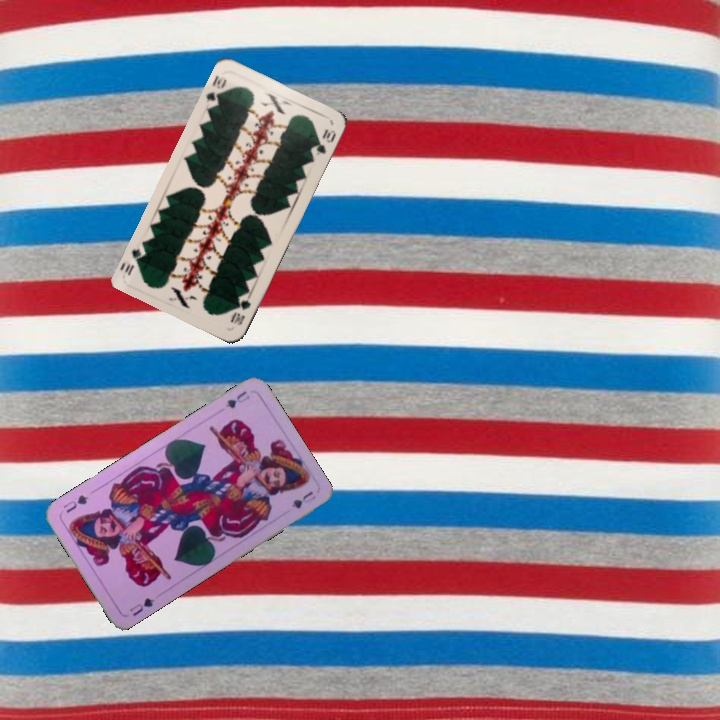G10: (202, 71, 229, 110), (227, 295, 253, 328)
GU: (125, 594, 157, 619), (221, 386, 253, 411)
